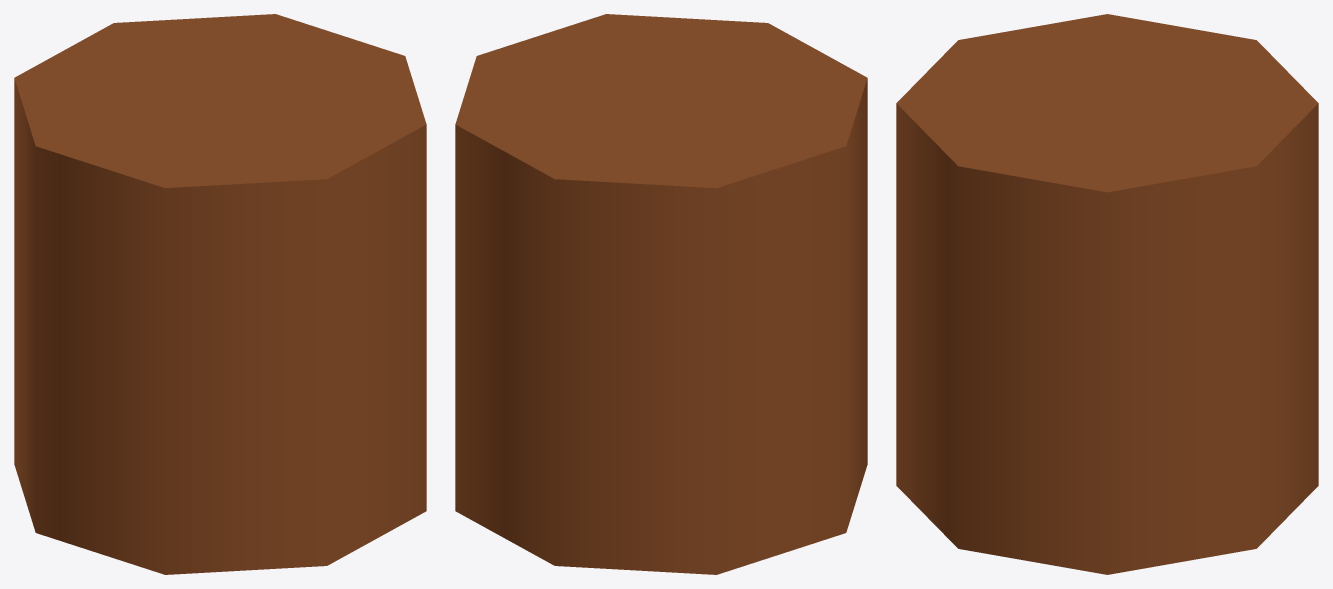
The model's file is basic_cylinder.gltf.
The picture shows the model from 3 angles, left to right: view 1: azimuth 30°, elevation 25°; view 2: azimuth 150°, elevation 25°; view 3: azimuth 270°, elevation 25°; orthographic projection.
Parts seen in each view (by area): view 1: basic_cylinder_glb; view 2: basic_cylinder_glb; view 3: basic_cylinder_glb.
Part boxes in pixels (box(x1,y1,x2,y2)): basic_cylinder_glb: box(14, 14, 426, 574); basic_cylinder_glb: box(455, 14, 867, 574); basic_cylinder_glb: box(896, 14, 1318, 574).
Size of what is drawn, in the model's own units: 1.03 by 1.03 by 1.03.
Materials: 1 (1 with a texture image).
